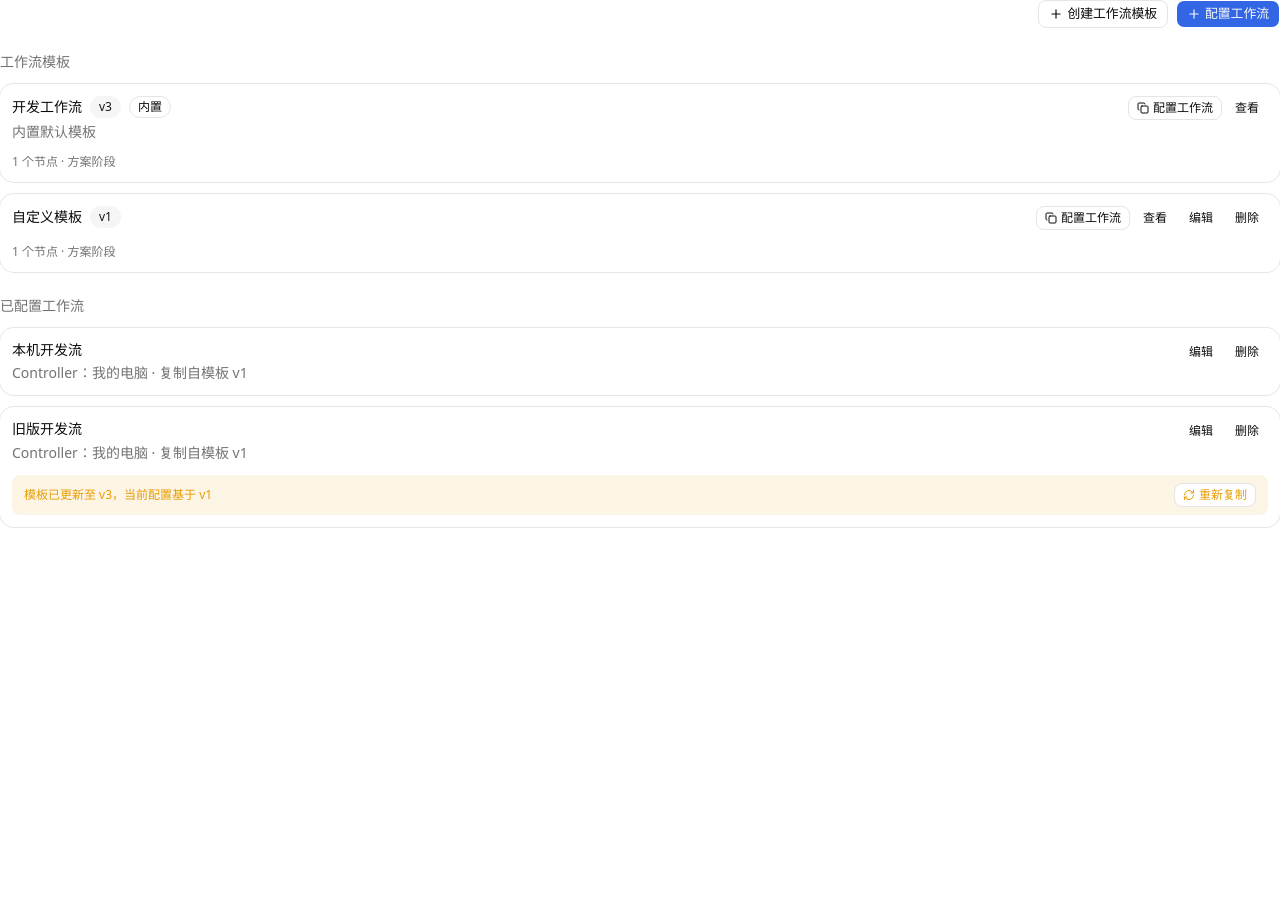
WorkflowSection › 点击「创建工作流模板」打开模板编辑器
Click the button "创建工作流模板" at {"x": 1103, "y": 14}, box [1038,0,1168,28]
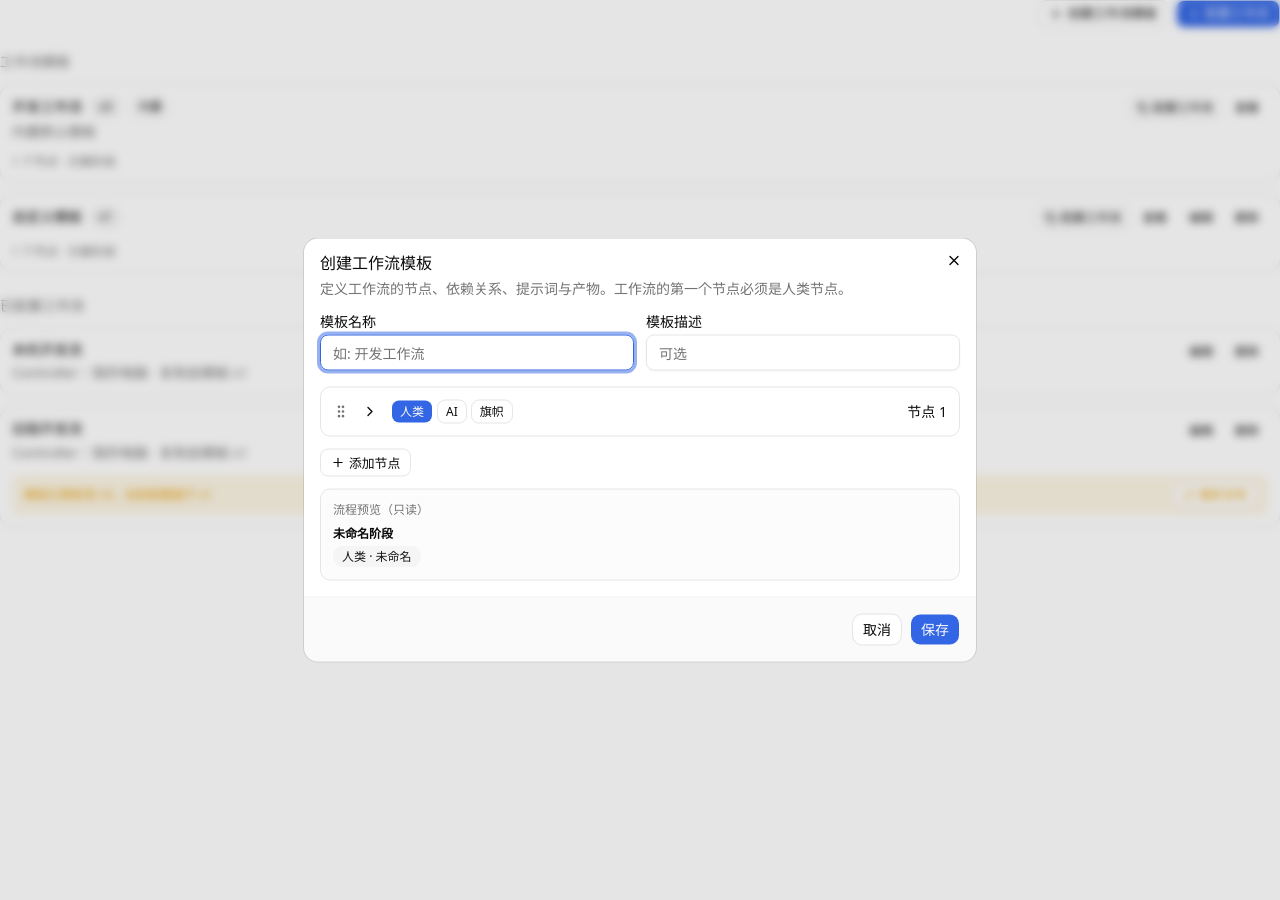
Expected: the text "定义工作流的节点、依赖关系、提示词与产物。工作流的第一个节点必须是人类节点。" is shown, [320,278,852,298]
